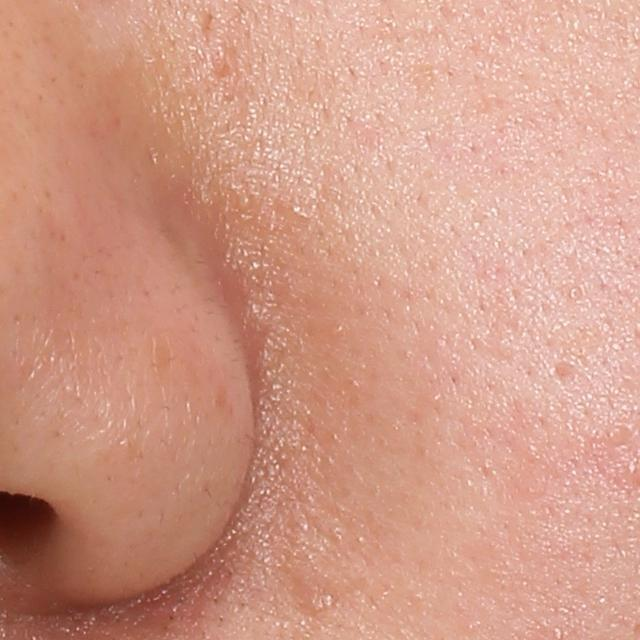comedo: (566, 285, 582, 302)
